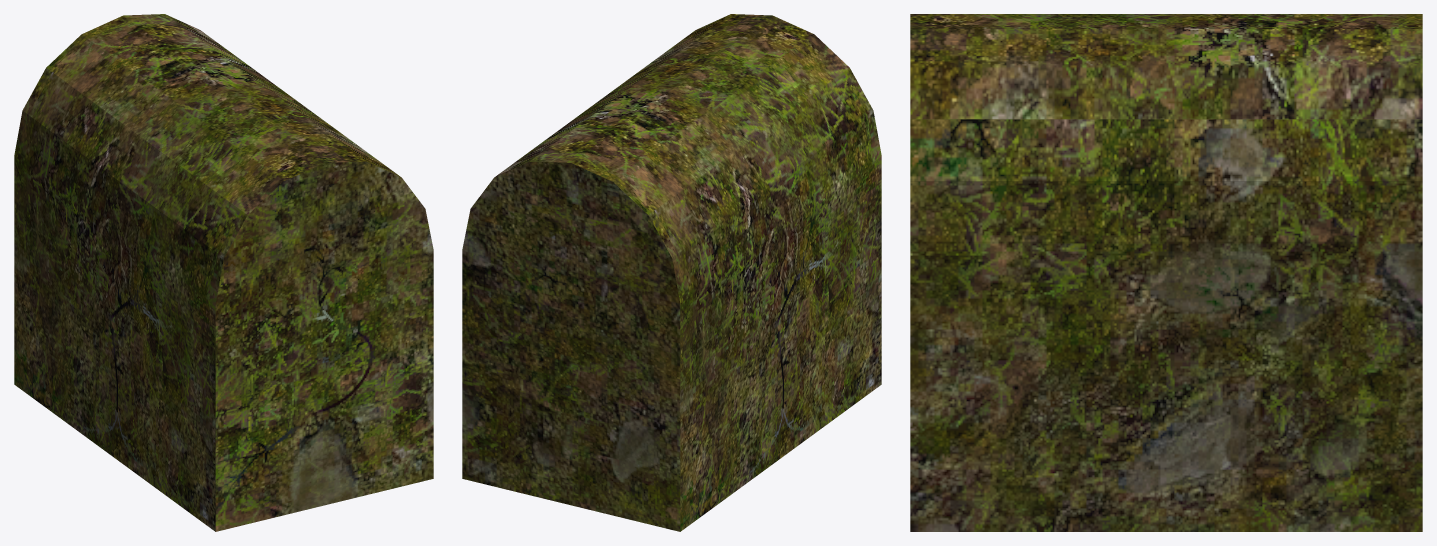
The model's file is chest.obj.
The picture shows the model from 3 angles, left to right: view 1: azimuth 30°, elevation 25°; view 2: azimuth 150°, elevation 25°; view 3: azimuth 270°, elevation 25°; orthographic projection. The views are drawn at different scales.
Visible parts, largest first — view 1: Cube; view 2: Cube; view 3: Cube.
Part boxes in pixels (box(x1,y1,x2,y2)): Cube: box(14, 14, 433, 531); Cube: box(462, 14, 881, 531); Cube: box(910, 14, 1422, 531).
Size of the model in its own units: 0.5 by 0.75 by 0.8.
